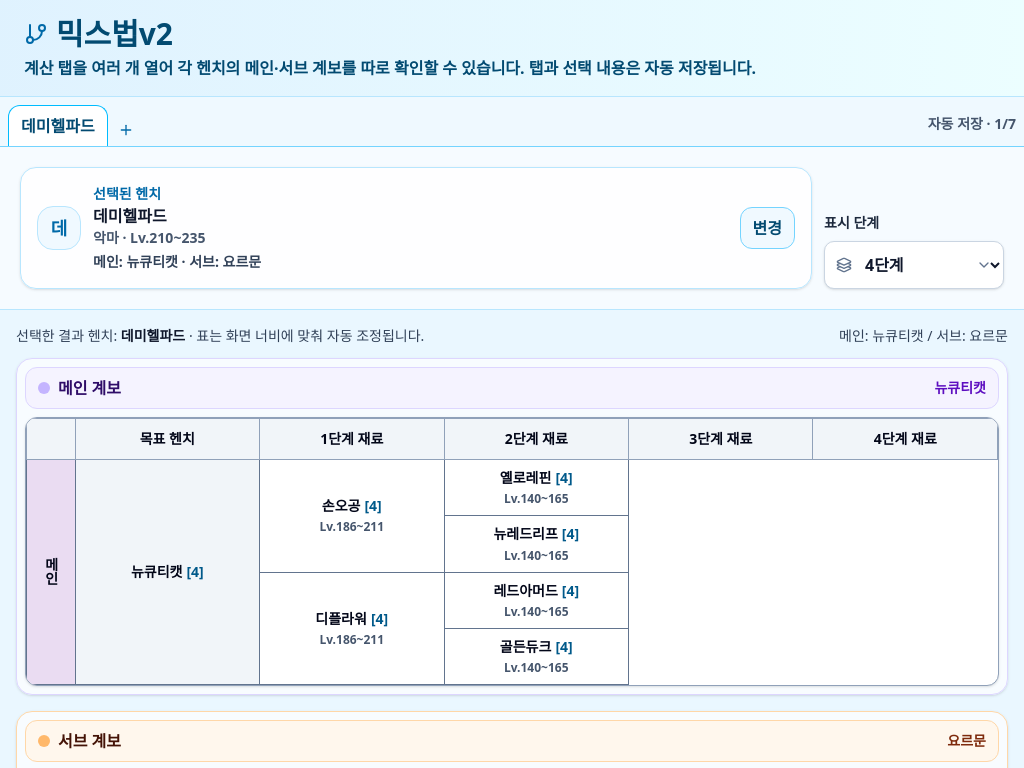
MixTreeTable › searches for a result monster once and automatically displays its main and sub trees
Step 1. Click the button "변경" → coordinates (767, 228), box 740,207 -> 795,249
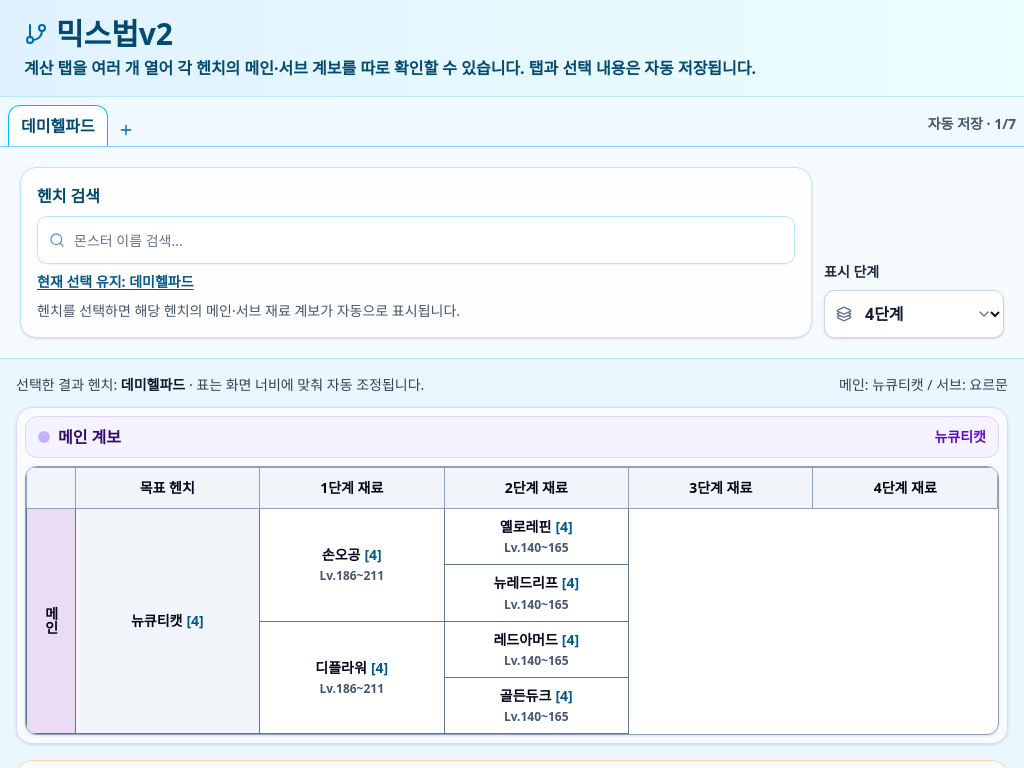
Step 2. Type "테스트목표" into the field named "헨치 검색" → coordinates (416, 240), box 37,216 -> 795,264
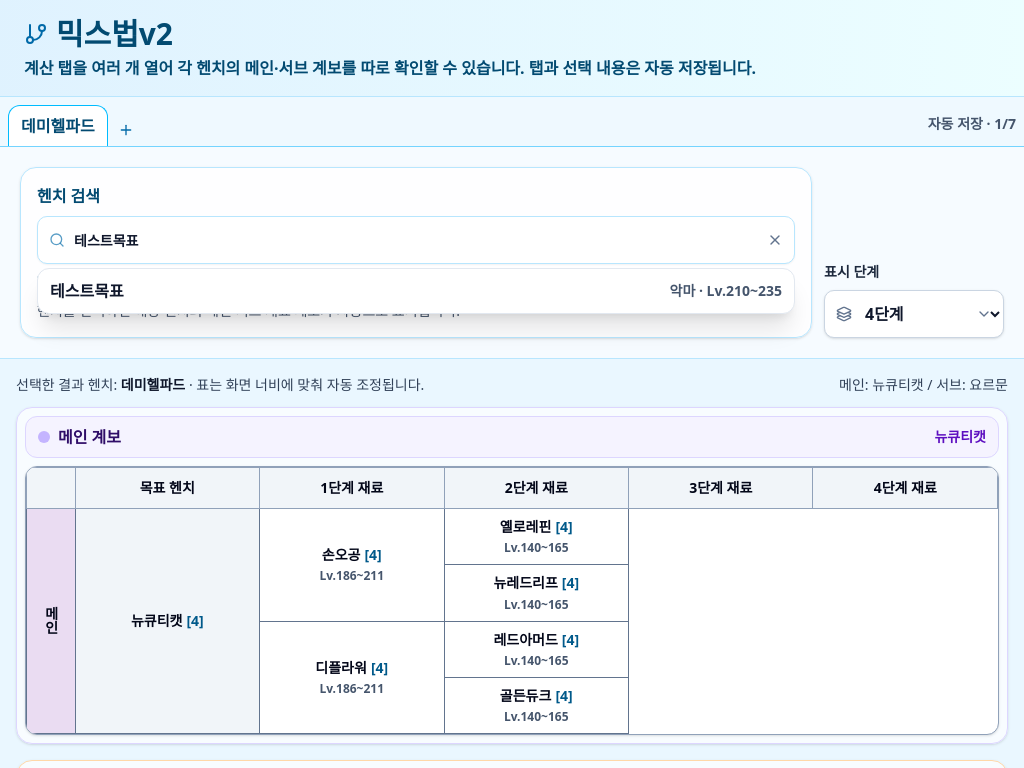
Step 3. Click the button "테스트목표 악마 · Lv.210~235" → coordinates (87, 291), box 38,269 -> 794,313
(page scrolled)
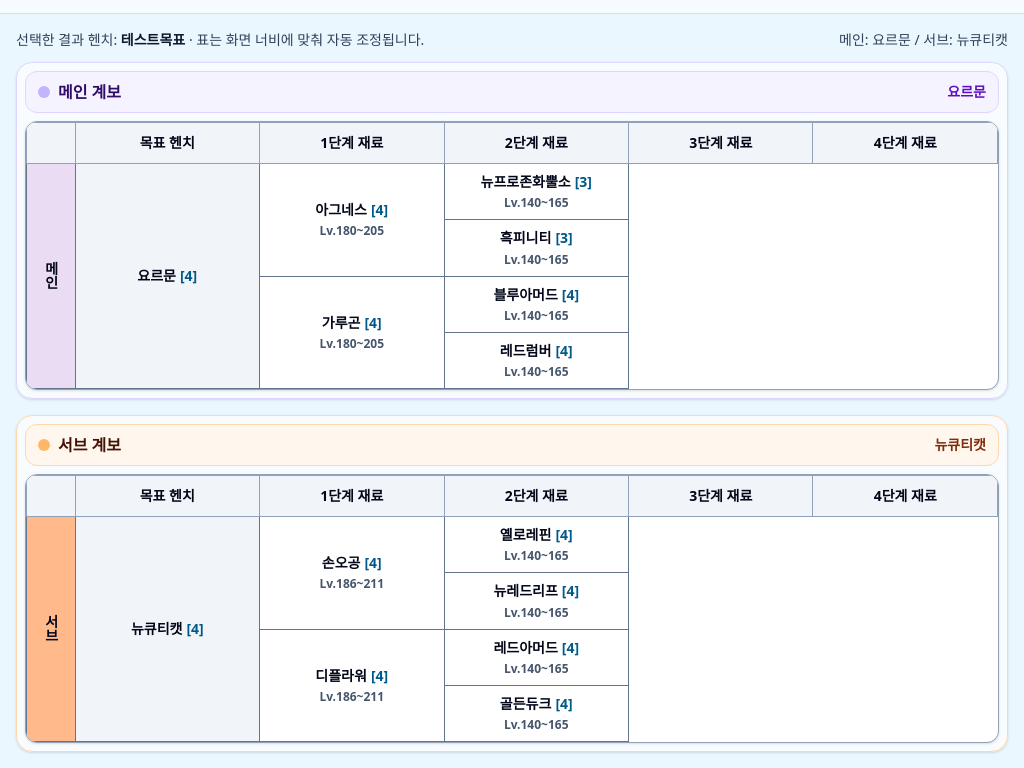
Expected: the element with test id "mix-tree2-main-table" shows "요르문", 137,266 -> 176,285
Expected: the element with test id "mix-tree2-sub-table" shows "뉴큐티캣", 131,619 -> 182,638
